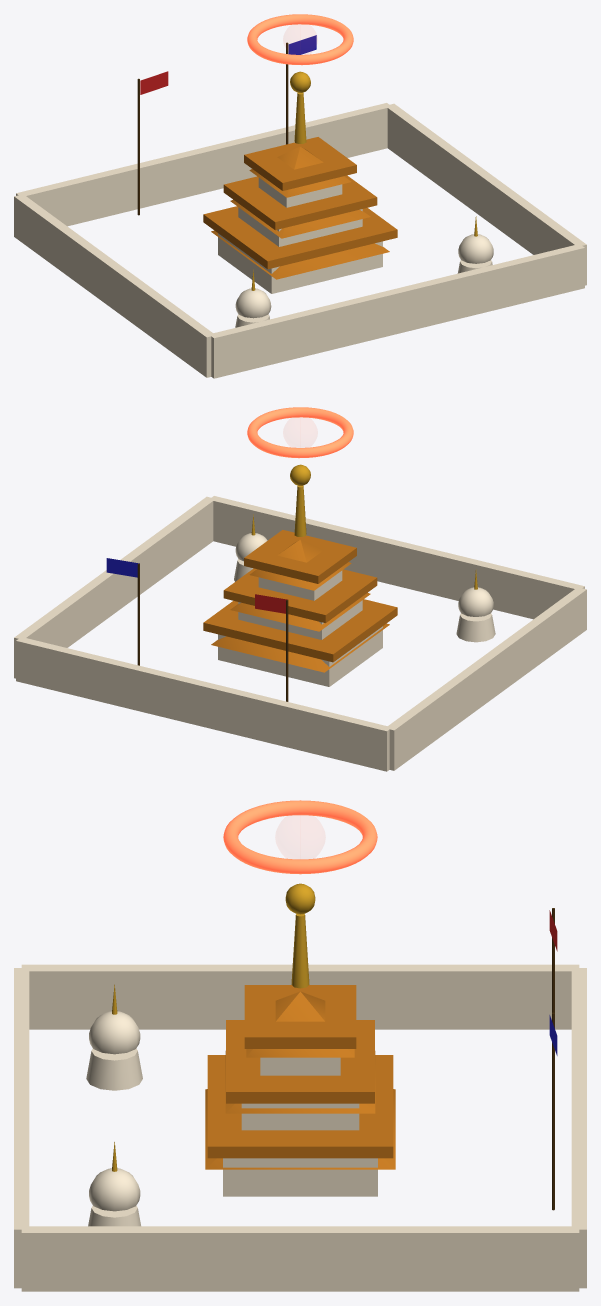
File: monastery.glb
3 renders of one model, top to bottom at view 1: azimuth 30°, elevation 25°; view 2: azimuth 150°, elevation 25°; view 3: azimuth 270°, elevation 25°, orthographic. The views are drawn at different scales.
Bounding box in the file's own units: 24.6 × 14.66 × 22.2.
